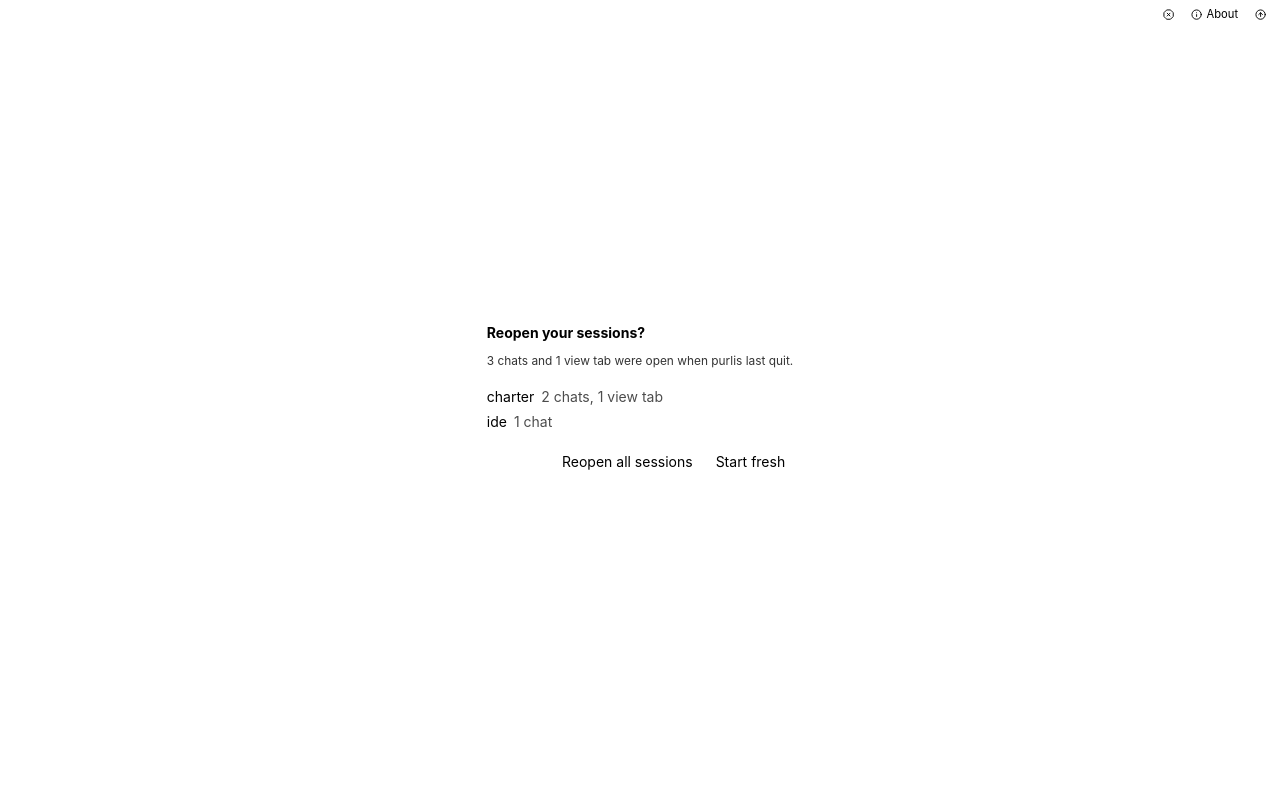
Test: a launch with something to put back › puts everything back after reopen-all, and only then restores the other projects
Click the button "Reopen all sessions" at (627, 463), box [554,449,701,477]
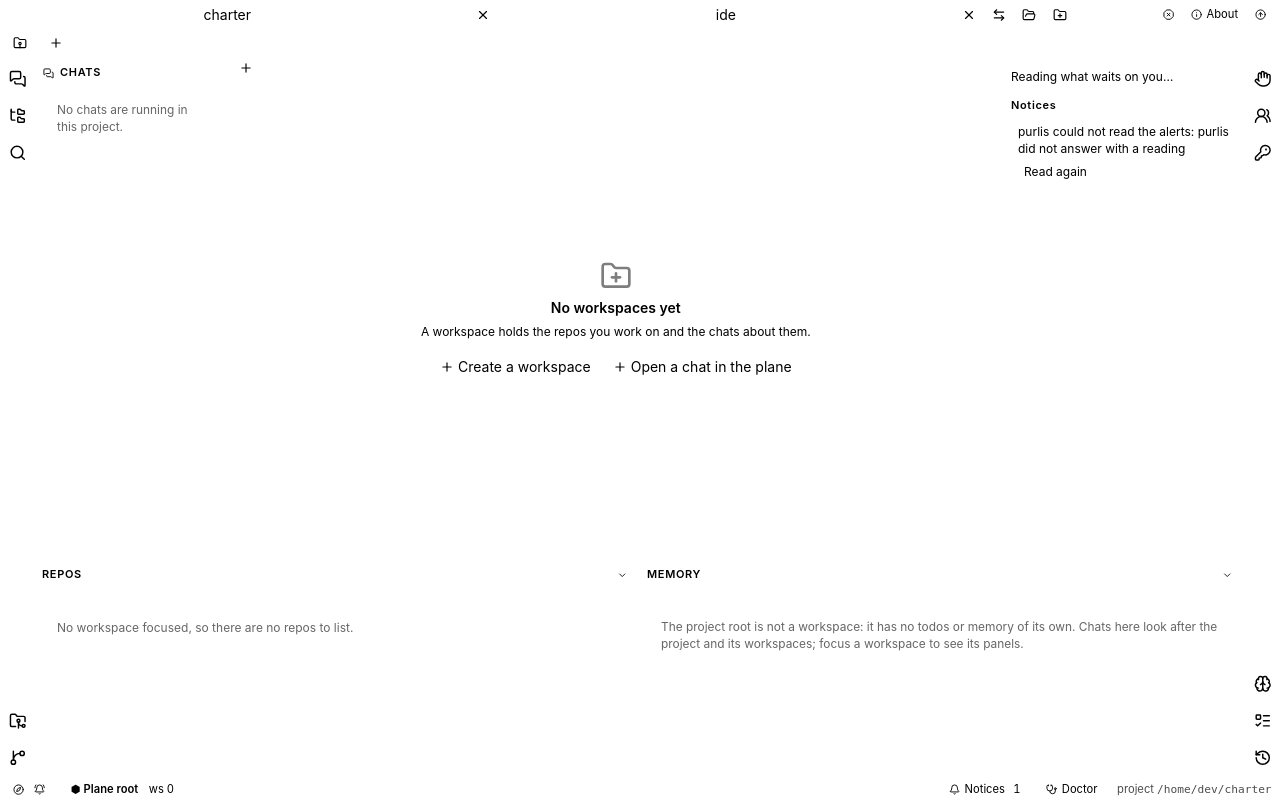
Check: the dialog is gone
